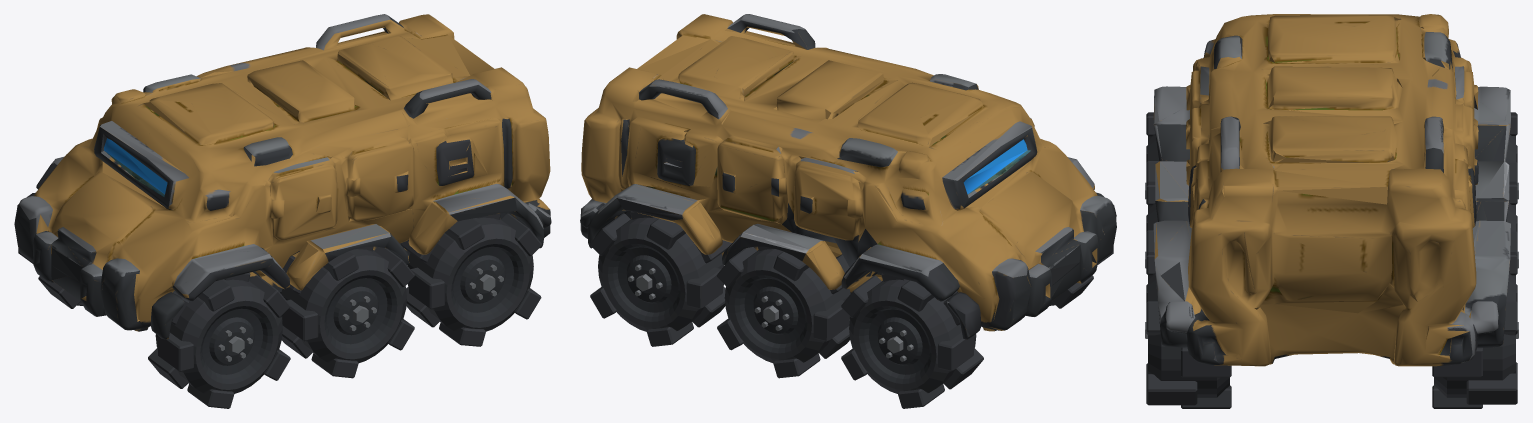
The model's file is OZ_APC_Live.glb.
3 views of the same model, side by side, from view 1: azimuth 30°, elevation 25°; view 2: azimuth 150°, elevation 25°; view 3: azimuth 270°, elevation 25° (orthographic). The views are drawn at different scales.
Parts seen in each view (by area): view 1: APC_Body, APC_Tyre_L2, APC_Tyre_L0, APC_Tyre_L1, APC_Tyre_R0; view 2: APC_Body, APC_Tyre_R2, APC_Tyre_R0, APC_Tyre_R1, APC_Tyre_L0; view 3: APC_Body, APC_Tyre_L2, APC_Tyre_R2, APC_Tyre_L0, APC_Tyre_L1, APC_Tyre_R0, APC_Tyre_R1.
Boxes of the visible parts, box(x1,y1,x2,y2) form: APC_Body: box(14, 14, 551, 339); APC_Tyre_L2: box(400, 213, 541, 346); APC_Tyre_L0: box(148, 272, 290, 408); APC_Tyre_L1: box(281, 246, 414, 378); APC_Tyre_R0: box(18, 249, 83, 308); APC_Body: box(580, 14, 1116, 339); APC_Tyre_R2: box(590, 211, 731, 346); APC_Tyre_R0: box(841, 273, 983, 408); APC_Tyre_R1: box(716, 246, 850, 378); APC_Tyre_L0: box(1049, 247, 1113, 308); APC_Body: box(1153, 14, 1510, 366); APC_Tyre_L2: box(1145, 252, 1231, 408); APC_Tyre_R2: box(1432, 252, 1518, 408); APC_Tyre_L0: box(1145, 112, 1159, 199); APC_Tyre_L1: box(1145, 181, 1157, 268); APC_Tyre_R0: box(1506, 112, 1518, 199); APC_Tyre_R1: box(1507, 181, 1518, 268).
Size of the model in its own units: 1.9 by 0.9874 by 1.25.
Materials: 1 (1 with a texture image).
